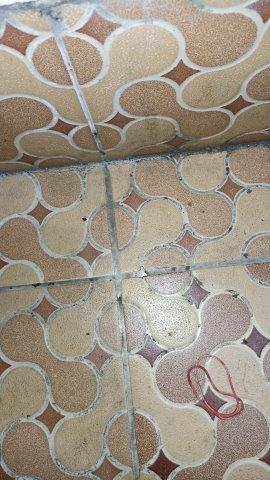karet: (188, 355, 245, 419)
